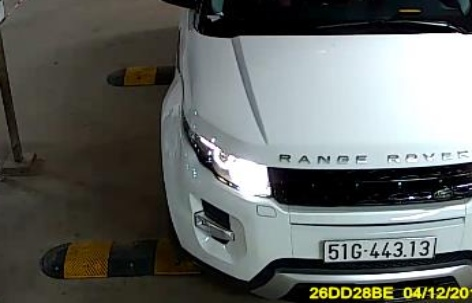plate: (322, 234, 441, 266)
